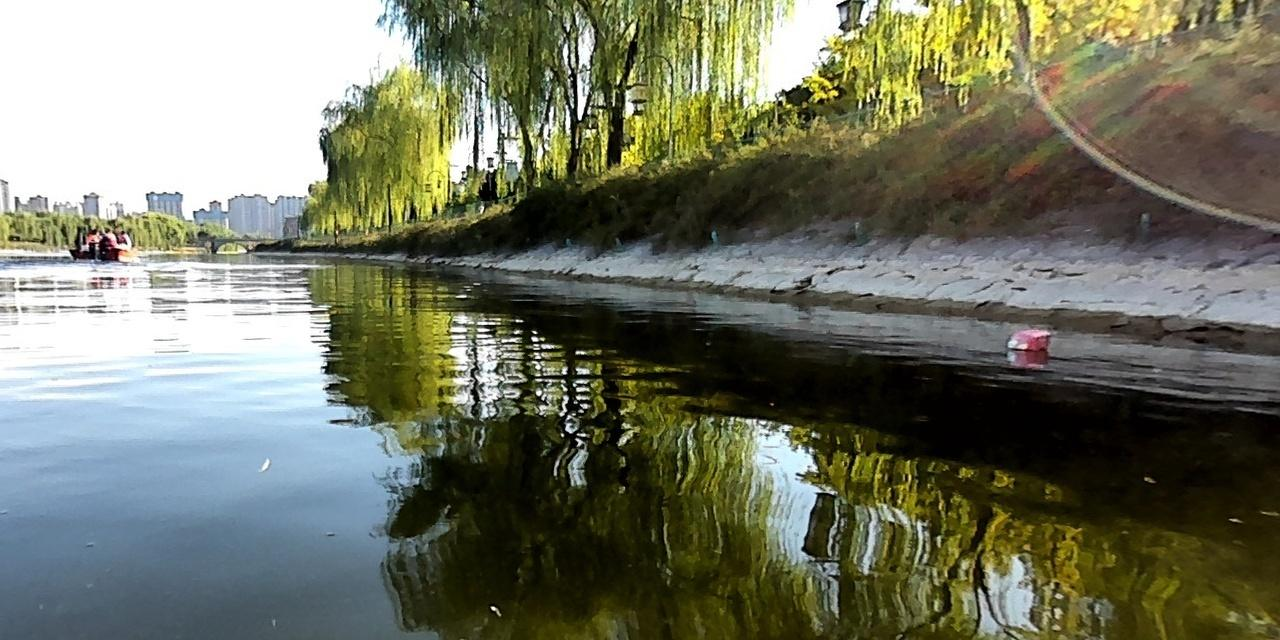bottle: (1001, 326, 1055, 351)
